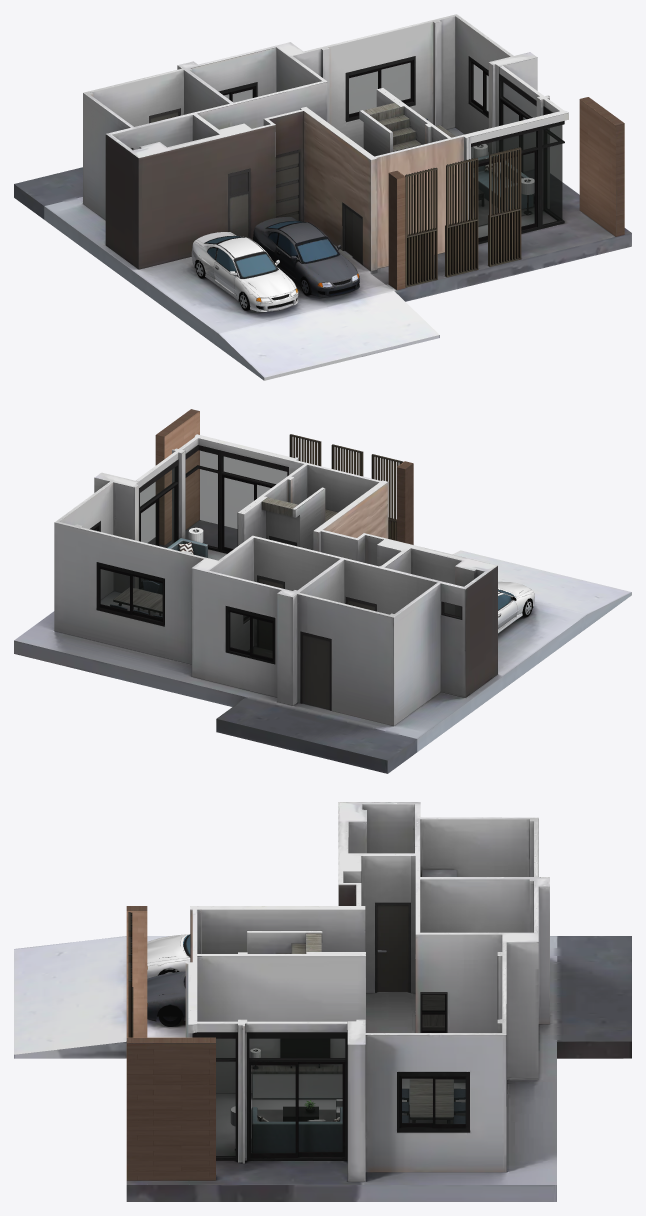
File: 2508_Floor1_Baked_v02.gltf
The picture shows the model from 3 angles, top to bottom: view 1: azimuth 30°, elevation 25°; view 2: azimuth 150°, elevation 25°; view 3: azimuth 270°, elevation 25°; orthographic projection. The views are drawn at different scales.
Parts seen in each view (by area): view 1: wall, pCube21, mirror11, pasted__Car_1.001, pCube35, pasted__Car_1, pasted__pCube31, Cube.002, Cube.001, Cube.013, adoor6, pCube35.001 (+3 smaller); view 2: wall, pCube21, mirror11, pasted__pCube31, pCube35, adoor6, pCube35.001, pasted__Car_1.001, table, Cube.013, doorframe9, Cube.001 (+2 smaller); view 3: wall, pCube21, mirror11, pCube35, table, pasted__pCube31, adoor6, pCube35.001, pasted__Car_1, pasted__Car_1.001, TV, windowfame3 (+4 smaller).
Part boxes in pixels (x1,y1,x2,y2): wall: (83, 14, 568, 271); pCube21: (14, 127, 631, 380); mirror11: (224, 62, 562, 237); pasted__Car_1.001: (191, 232, 298, 312); pCube35: (579, 97, 624, 236); pasted__Car_1: (253, 217, 359, 297); pasted__pCube31: (218, 56, 564, 244); Cube.002: (488, 147, 521, 266); Cube.001: (445, 157, 478, 277); Cube.013: (405, 167, 437, 287); adoor6: (150, 112, 361, 264); pCube35.001: (388, 170, 405, 290); wall: (54, 434, 497, 725); pCube21: (14, 520, 631, 773); mirror11: (96, 450, 461, 658); pasted__pCube31: (89, 445, 288, 664); pCube35: (155, 409, 199, 545); adoor6: (258, 539, 375, 709); pCube35.001: (396, 461, 413, 544); pasted__Car_1.001: (498, 581, 534, 633); table: (113, 538, 207, 613); Cube.013: (371, 454, 403, 540); doorframe9: (243, 536, 462, 710); Cube.001: (331, 444, 363, 476); wall: (185, 802, 549, 1181); pCube21: (14, 936, 631, 1201); mirror11: (216, 994, 465, 1156); pCube35: (126, 1037, 215, 1180); table: (251, 1065, 465, 1152); pasted__pCube31: (192, 1004, 506, 1160); adoor6: (377, 905, 408, 991); pCube35.001: (126, 906, 147, 1037); pasted__Car_1: (147, 971, 185, 1026); pasted__Car_1.001: (147, 934, 190, 978); TV: (280, 1038, 330, 1067); windowfame3: (249, 1062, 297, 1157).
Size of the model in its own units: 12.03 by 3.48 by 12.61.
Materials: 21 (21 with a texture image).
